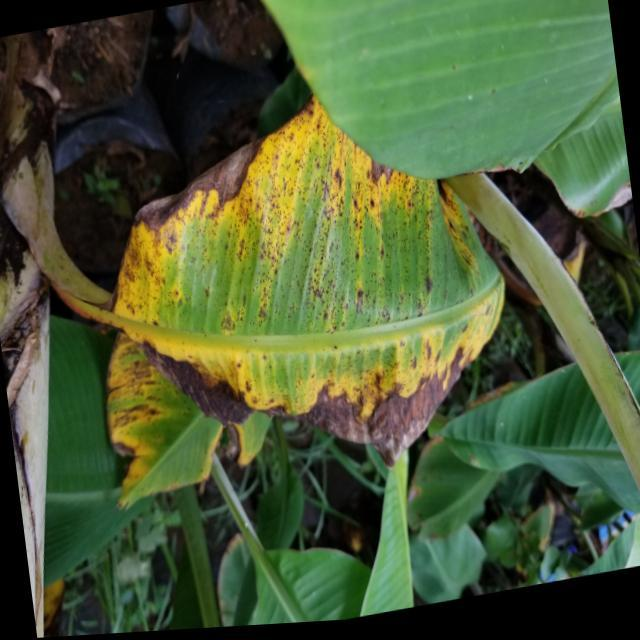Early_rust: (51, 90, 529, 532)
